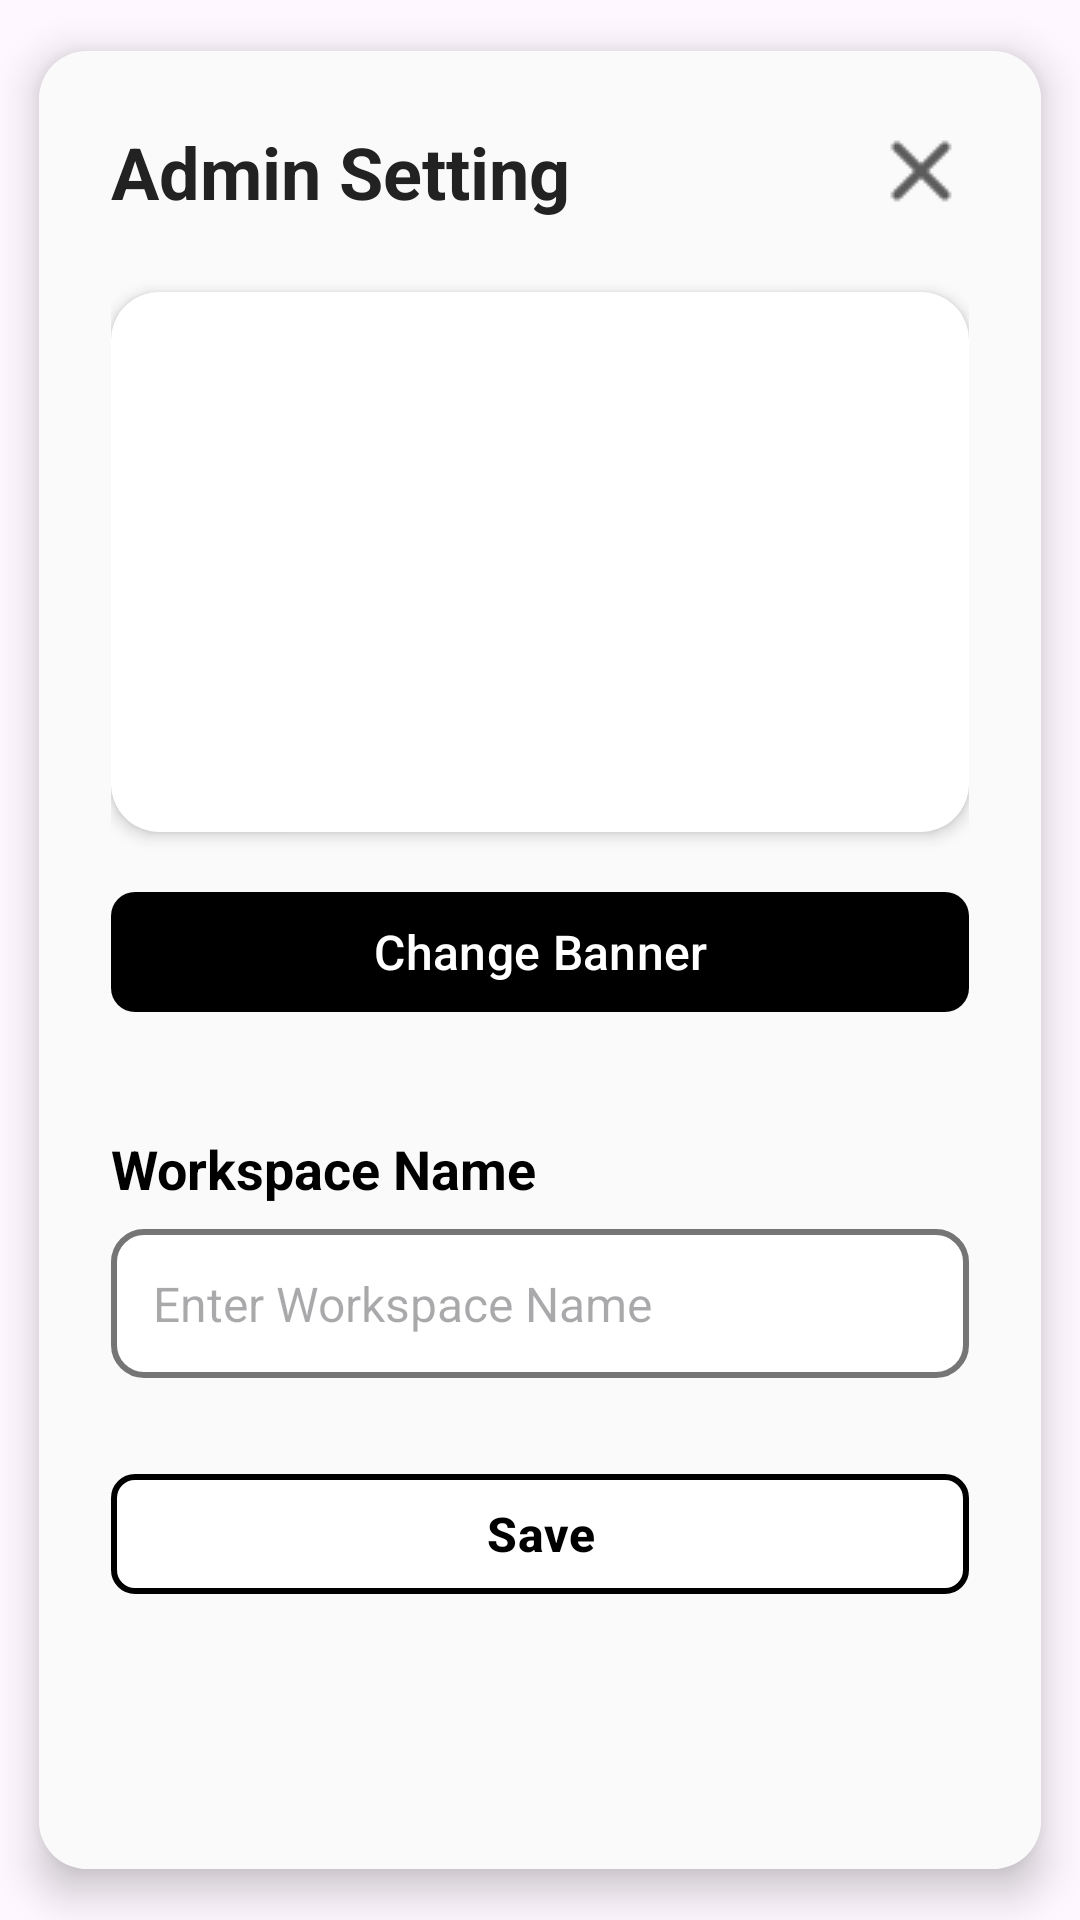

Icon click points for this 1080×1920 phone screenshot, format [x,y]:
Close: [921,171]
